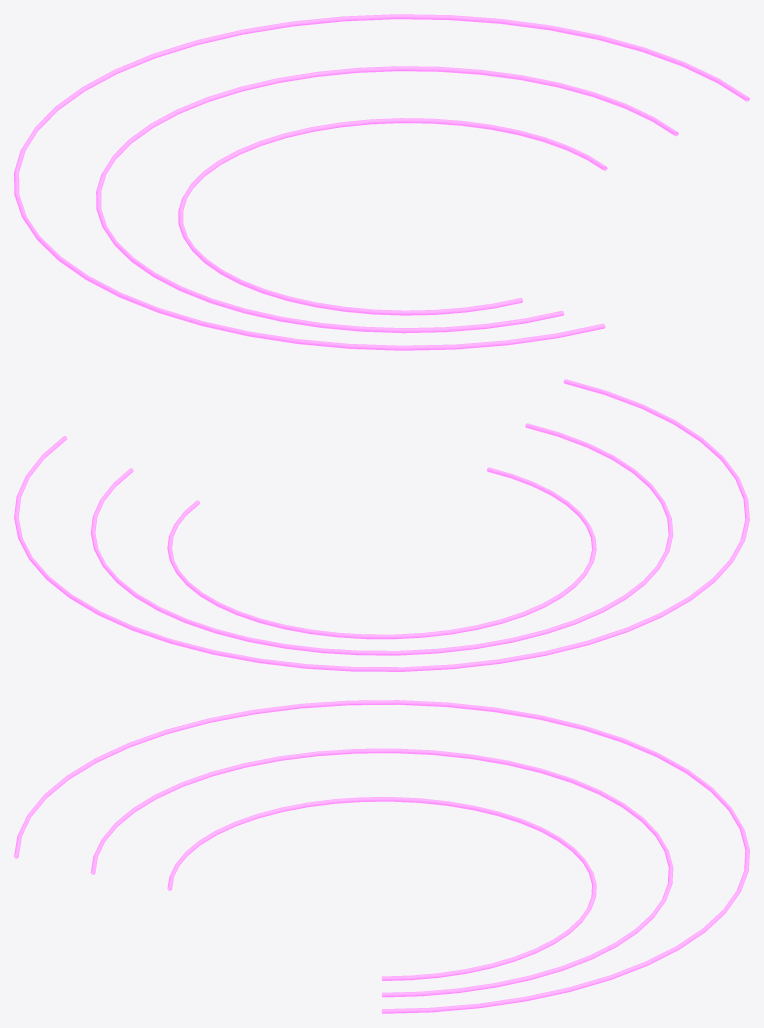
File: VXDR_JAMMER_v001_FX.fbx
3 renders of one model, top to bottom at view 1: azimuth 30°, elevation 25°; view 2: azimuth 150°, elevation 25°; view 3: azimuth 270°, elevation 25°, orthographic. The views are drawn at different scales.
Parts seen in each view (by area): view 1: Jamming pulse arc.002, Jamming pulse arc.001, Jamming pulse arc; view 2: Jamming pulse arc.002, Jamming pulse arc.001, Jamming pulse arc; view 3: Jamming pulse arc.002, Jamming pulse arc.001, Jamming pulse arc.
Part boxes in pixels (box(x1,y1,x2,y2)): Jamming pulse arc.002: box(14, 14, 749, 350); Jamming pulse arc.001: box(96, 66, 678, 333); Jamming pulse arc: box(178, 118, 607, 315); Jamming pulse arc.002: box(14, 379, 749, 671); Jamming pulse arc.001: box(90, 423, 673, 655); Jamming pulse arc: box(167, 467, 596, 639); Jamming pulse arc.002: box(14, 700, 749, 1013); Jamming pulse arc.001: box(90, 748, 673, 997); Jamming pulse arc: box(167, 797, 596, 980).
Bounding box in the file's own units: 62.37 × 3.35 × 62.37.
